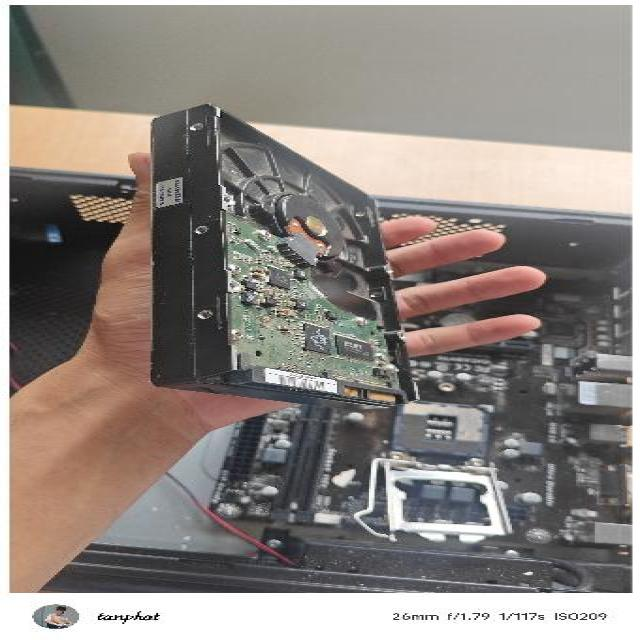DISK: (143, 102, 427, 408)
